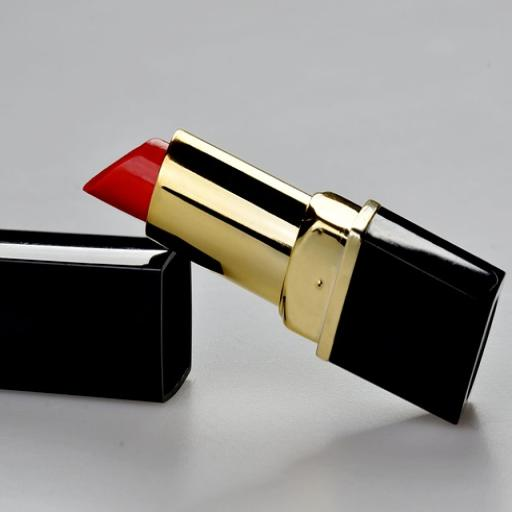lipstick: (84, 131, 504, 423)
